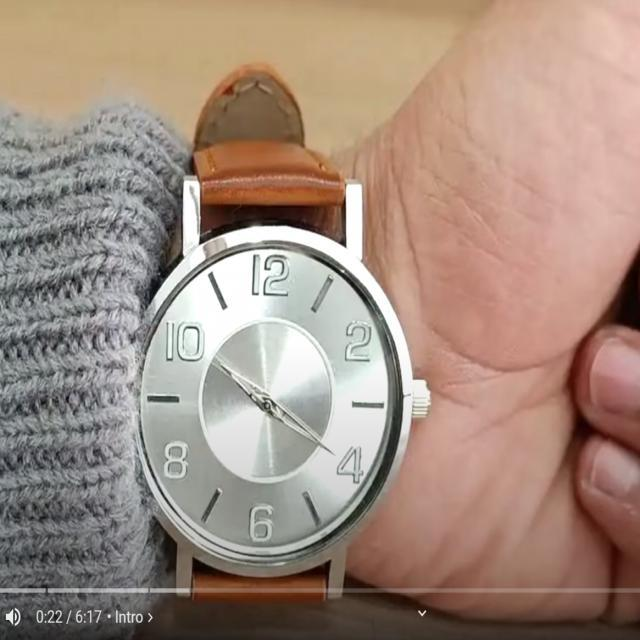Watch: (136, 60, 430, 592)
